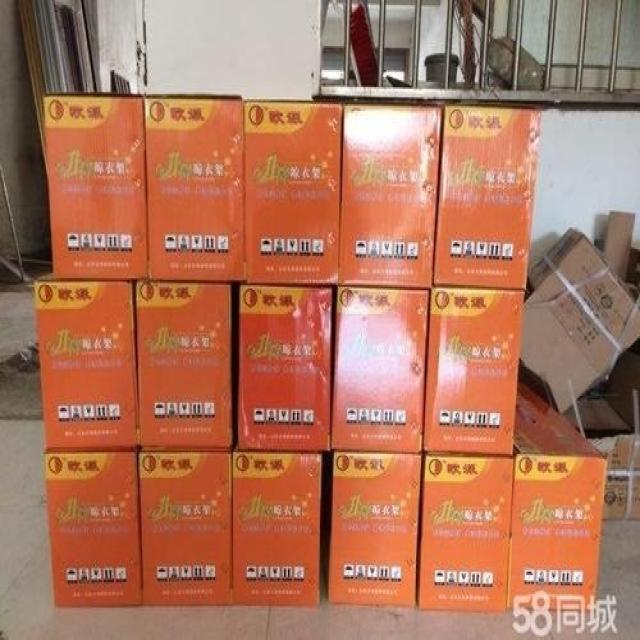box: (505, 377, 608, 613), (521, 225, 639, 417), (433, 106, 541, 289), (338, 105, 442, 291), (48, 93, 149, 280), (35, 265, 136, 450), (148, 94, 246, 282), (243, 101, 343, 282), (233, 281, 334, 454), (423, 287, 524, 455), (134, 282, 234, 450), (331, 285, 430, 450), (324, 451, 423, 609), (417, 454, 514, 613), (45, 449, 143, 606), (137, 446, 232, 604), (231, 450, 326, 605), (568, 362, 639, 522)
